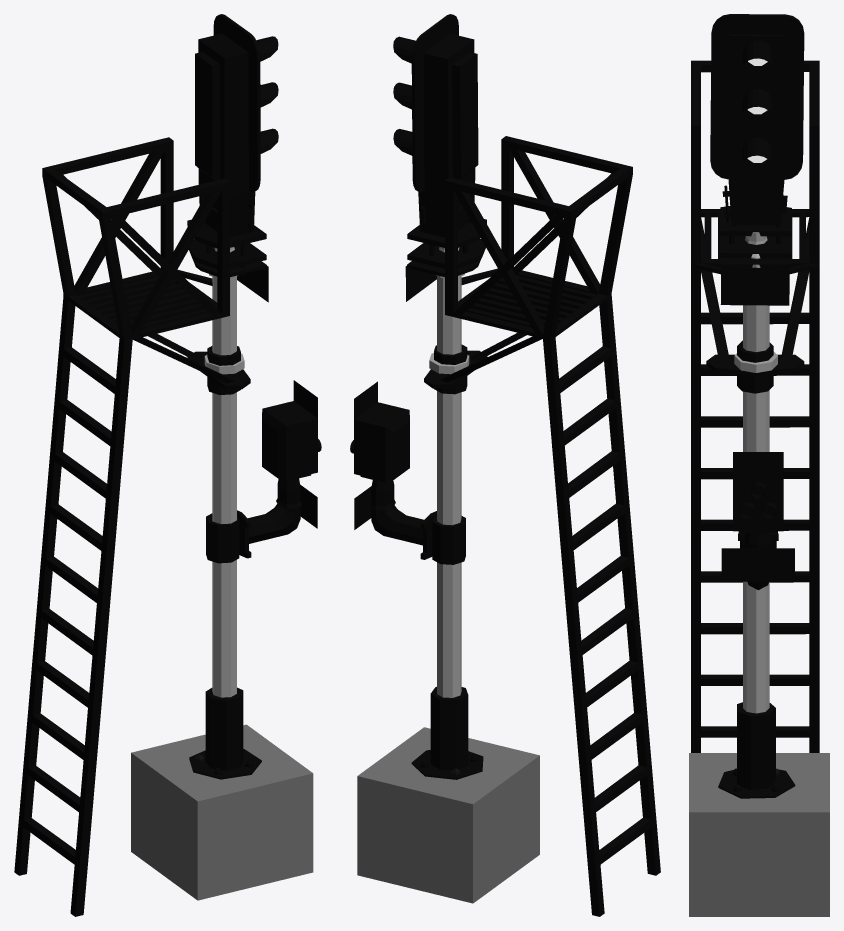
The model's file is signalMain-transformed.glb.
3 renders of one model, left to right at view 1: azimuth 30°, elevation 25°; view 2: azimuth 150°, elevation 25°; view 3: azimuth 270°, elevation 25°, orthographic. The views are drawn at different scales.
Visible parts, largest first — view 1: Stairs.007, Cube, Lights_1.004, pole.007, cube.005, board.010, FS_2.006, FS_3.007, BEG_Light_2.012, hs_18.005; view 2: Stairs.007, Cube, Lights_1.004, pole.007, cube.005, board.010, FS_2.006, FS_3.007, BEG_Light_2.012; view 3: Stairs.007, Cube, Lights_1.004, pole.007, hs_18.005, hs_16.005, cube.005, FS_3.007, BEG_Light_2.012, hs_17.005, board.010, st_1.007.
Part boxes in pixels (x1,y1,x2,y2): Stairs.007: (14, 137, 234, 916); Cube: (131, 724, 313, 900); Lights_1.004: (187, 14, 266, 269); pole.007: (189, 247, 261, 779); cube.005: (262, 401, 317, 481); board.010: (237, 478, 301, 558); FS_2.006: (206, 513, 239, 563); FS_3.007: (187, 346, 250, 394); BEG_Light_2.012: (256, 36, 278, 153); hs_18.005: (237, 266, 268, 302); Stairs.007: (440, 136, 660, 916); Cube: (357, 727, 539, 903); Lights_1.004: (407, 14, 486, 268); pole.007: (411, 247, 483, 779); cube.005: (354, 402, 409, 482); board.010: (369, 480, 436, 559); FS_2.006: (432, 515, 465, 564); FS_3.007: (424, 344, 487, 394); BEG_Light_2.012: (393, 36, 415, 155); Stairs.007: (691, 60, 819, 752); Cube: (689, 753, 829, 916); Lights_1.004: (710, 14, 804, 258); pole.007: (718, 232, 795, 798); hs_18.005: (720, 267, 789, 305); hs_16.005: (721, 548, 794, 581); cube.005: (733, 474, 783, 533); FS_3.007: (706, 340, 804, 393); BEG_Light_2.012: (742, 40, 772, 162); hs_17.005: (733, 452, 783, 473); board.010: (738, 533, 778, 590); st_1.007: (722, 258, 790, 268).
Size of the model in its own units: 1.95 by 5.76 by 0.8346.
4 materials, 4 textured.
